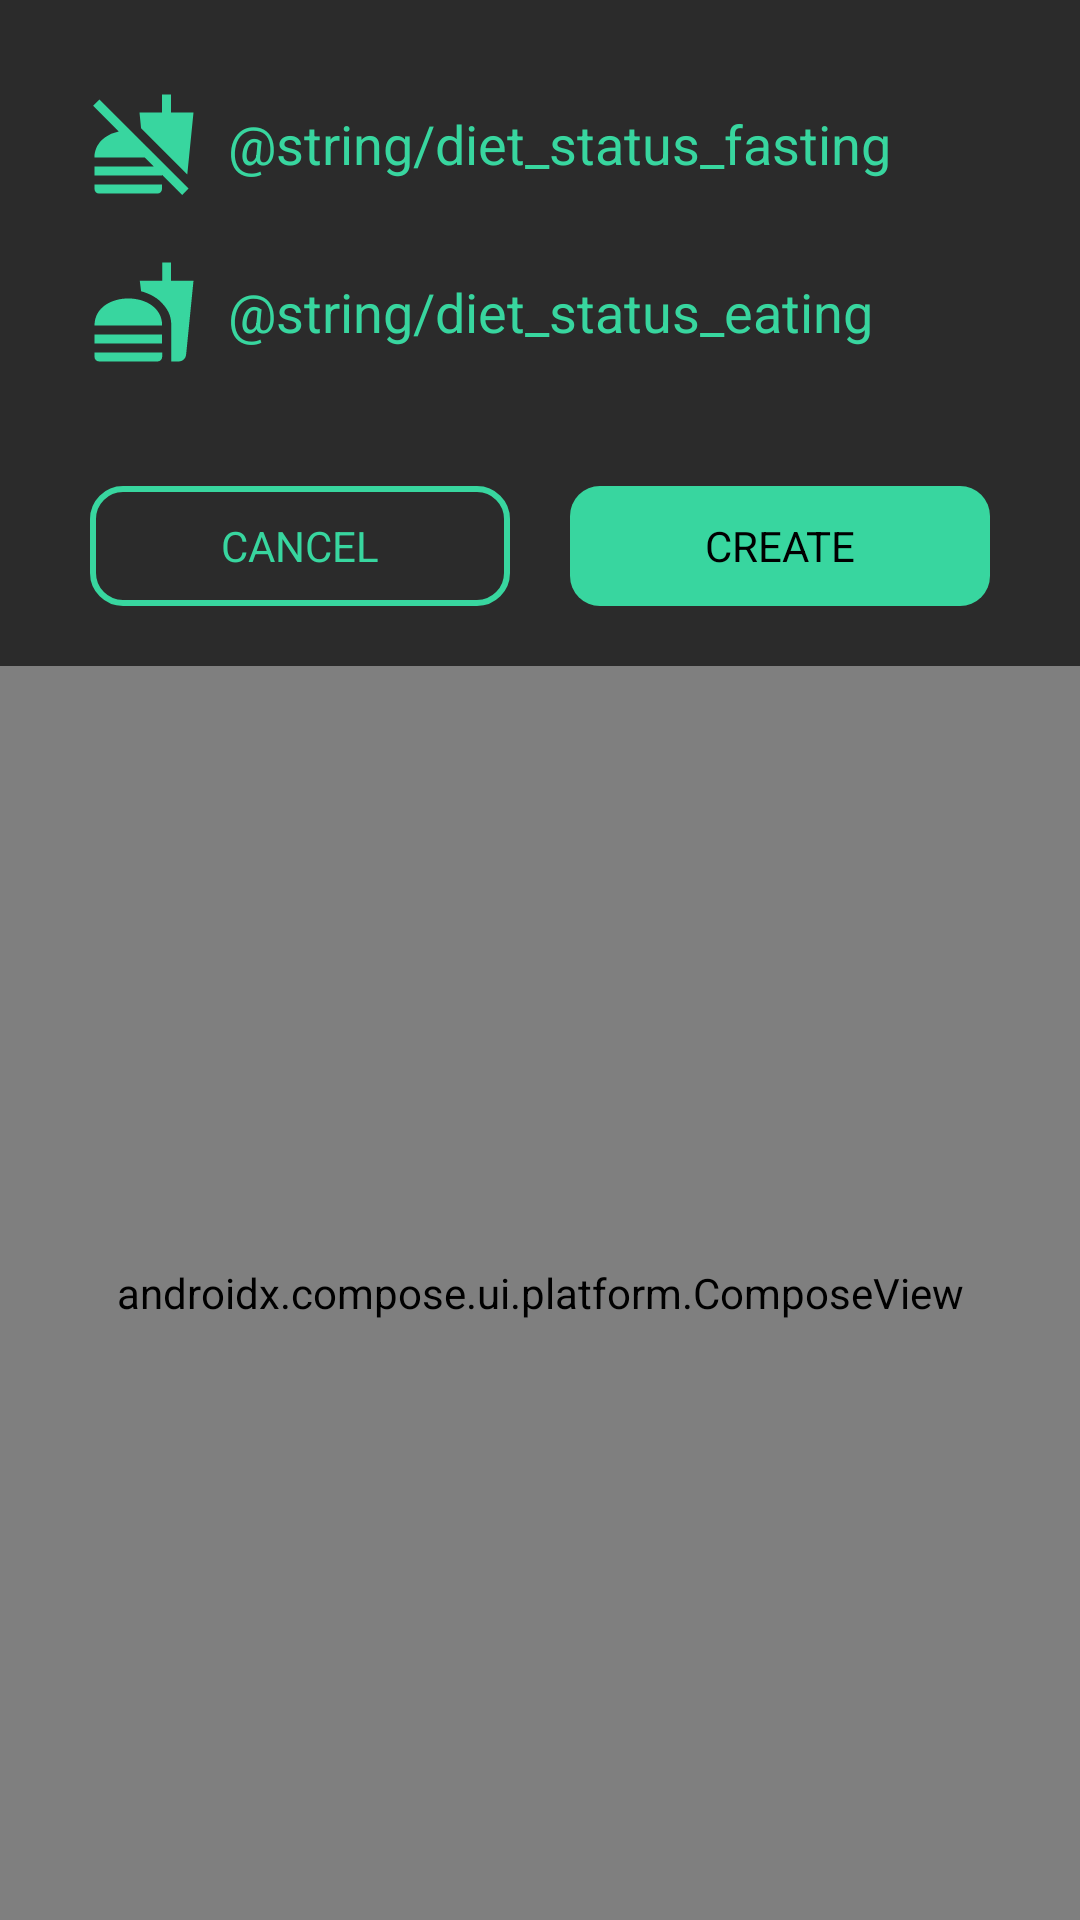

Icons on this 1080×1920 Android screen, each with its box as BBox(x1, y1, x2, y2):
fastfood: BBox(94, 262, 194, 362)
no food: BBox(93, 94, 194, 195)
